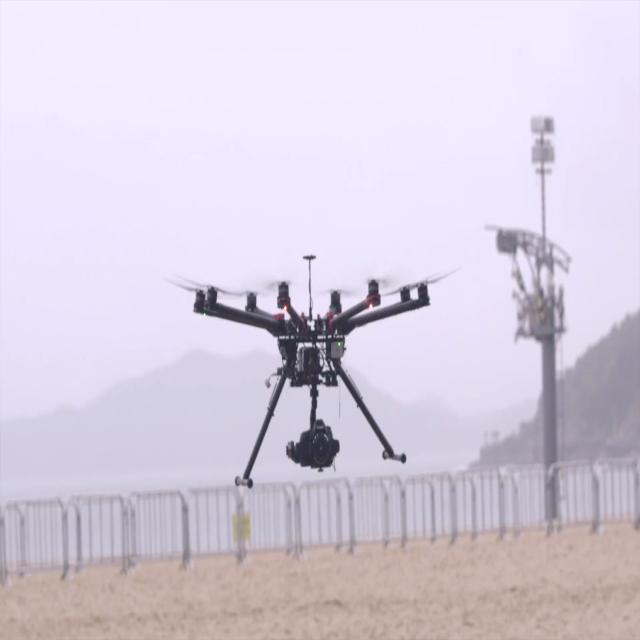drone: (181, 227, 441, 500)
